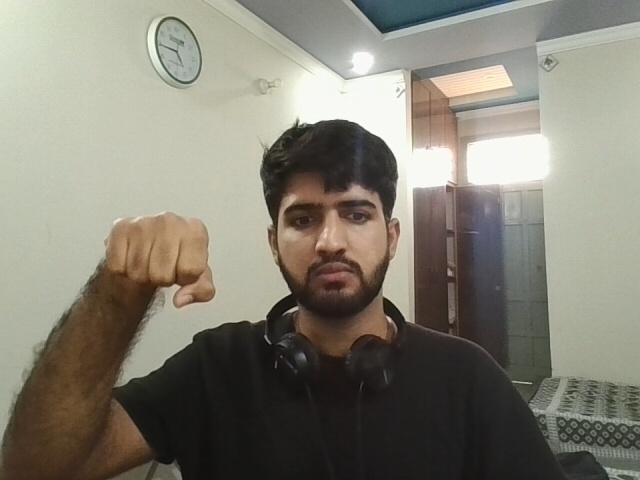Yes: (97, 201, 238, 319)
